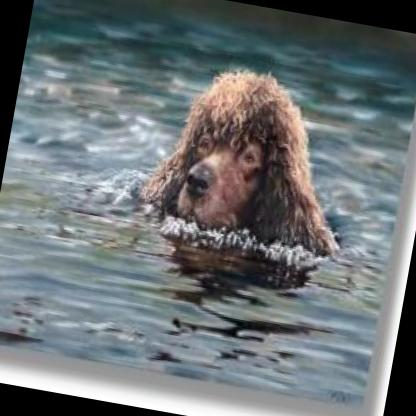Irish_water_spaniel: (128, 46, 364, 258)
